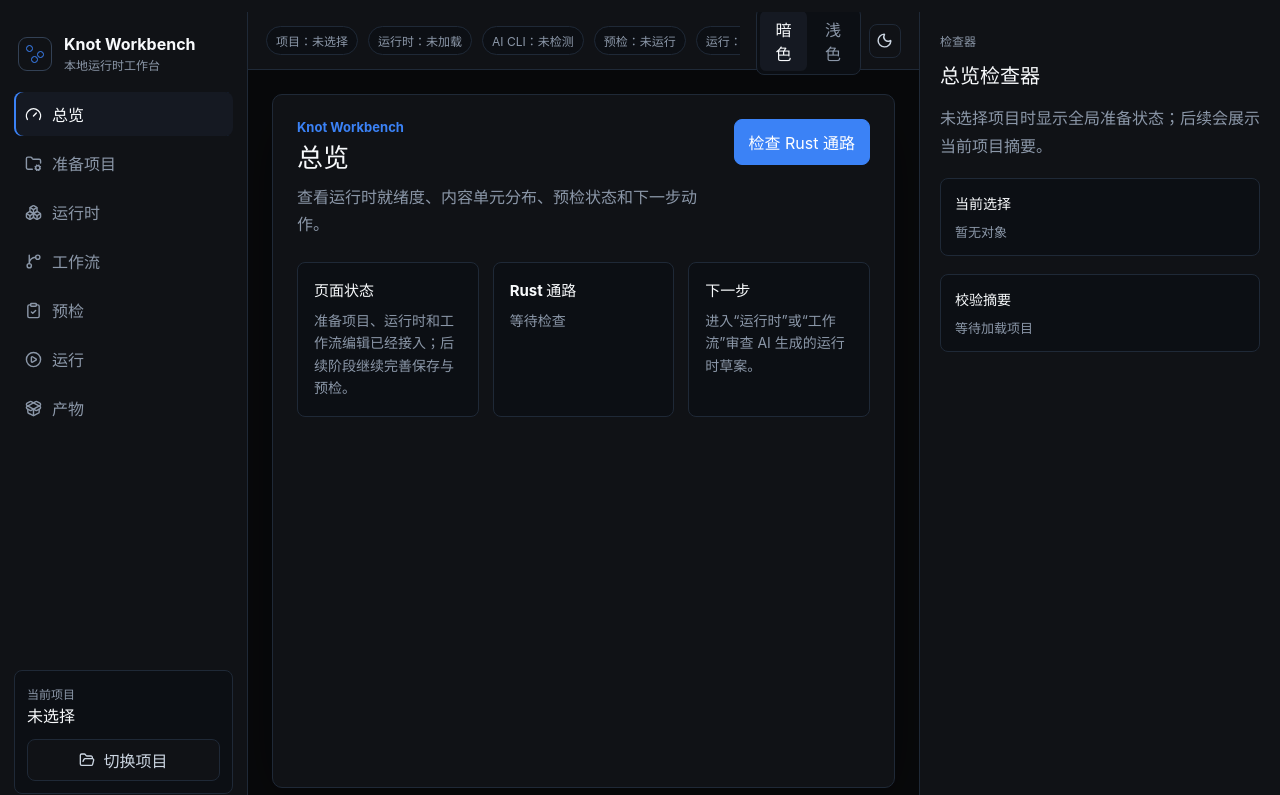
it: App › selects a project folder and shows the detection summary
The image size is (1280, 795).
Click the button "准备项目": (124,163) [14, 141, 233, 185]
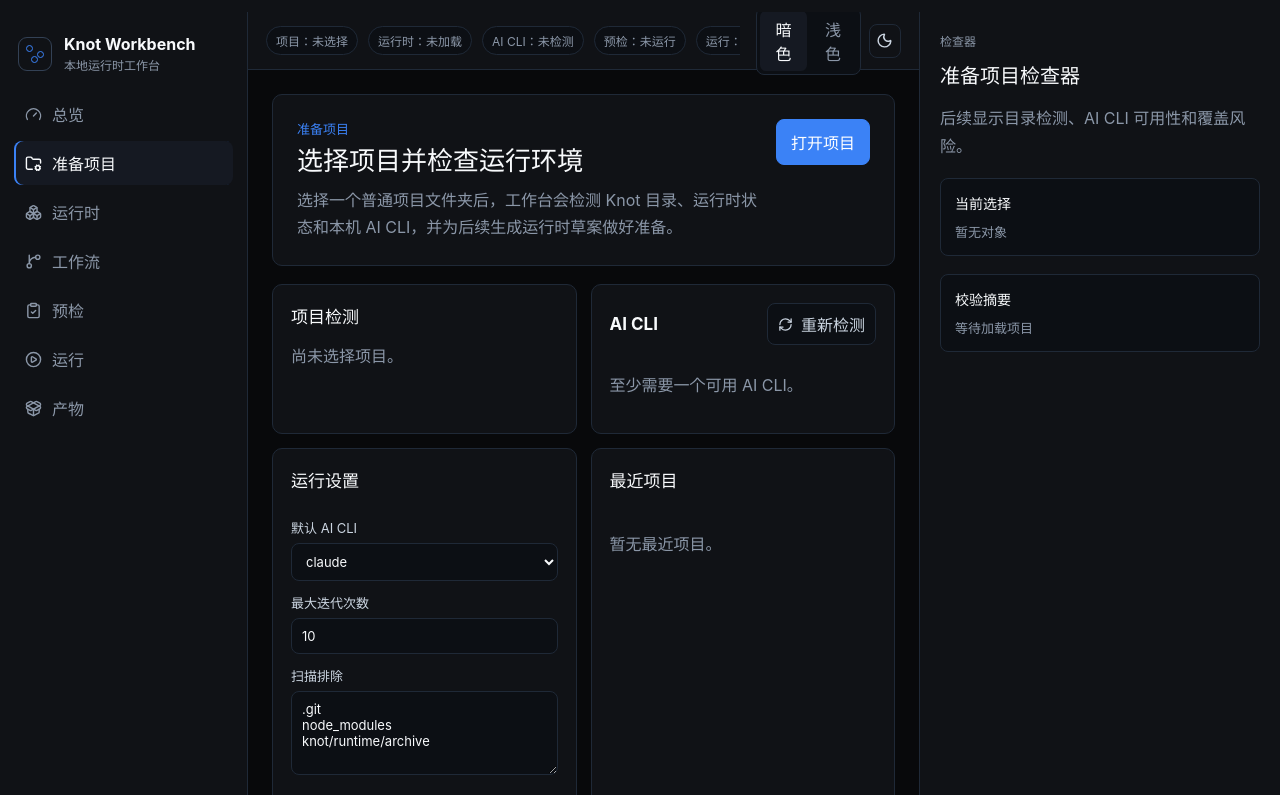
Click the button "打开项目": (823,142) [776, 119, 870, 165]
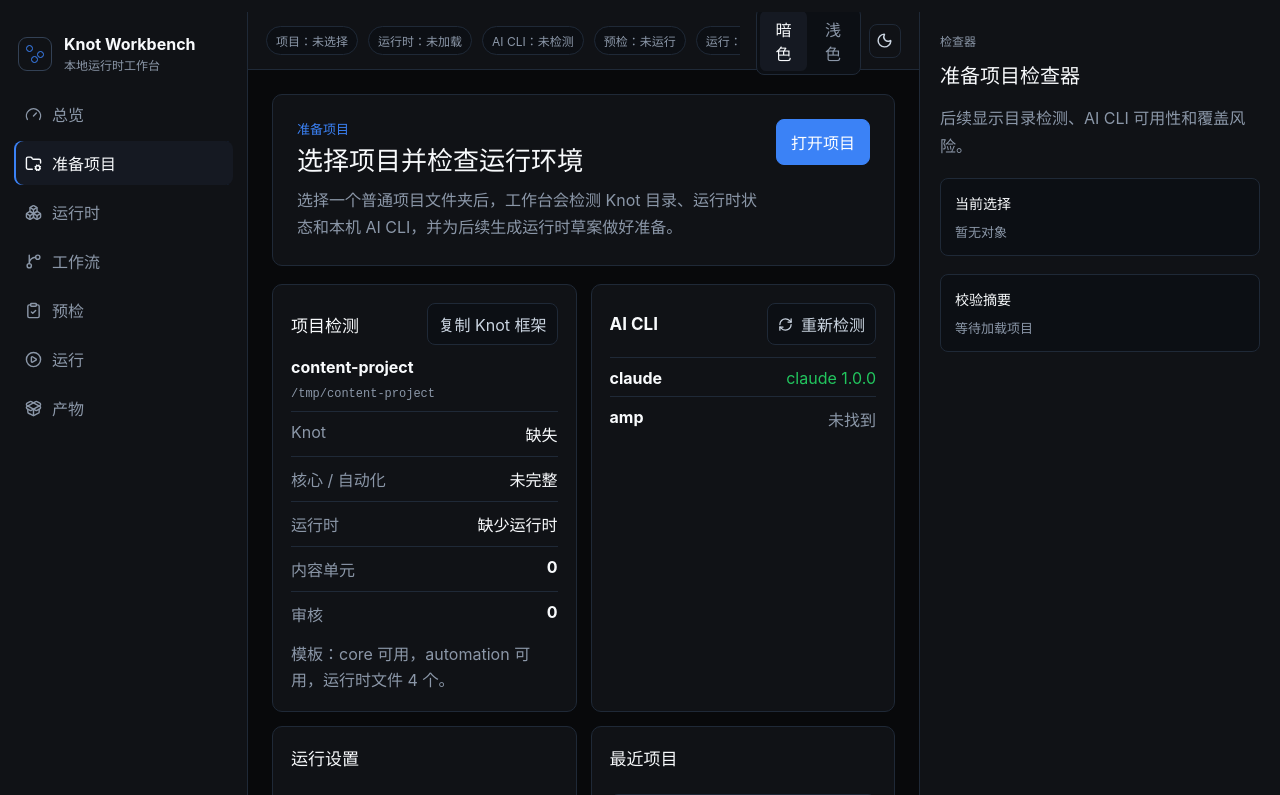
Expected: the text "content-project" is shown 3 times
Expected: the text "/tmp/content-project" is shown 2 times
